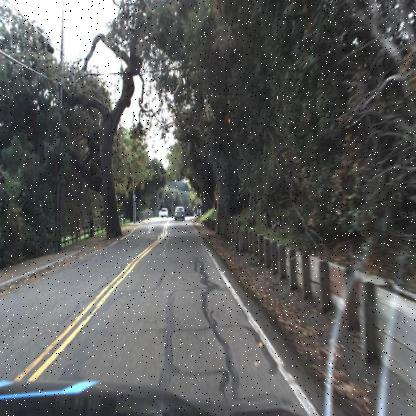car: (171, 202, 188, 223), (158, 206, 170, 221)
